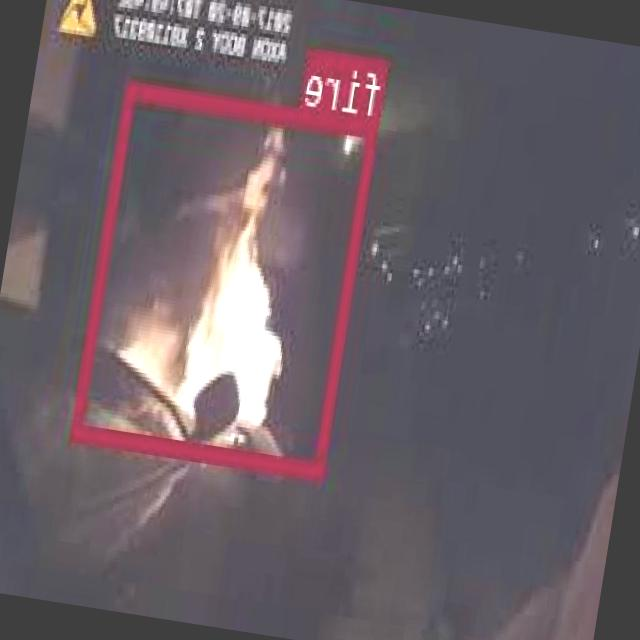fire: (74, 79, 380, 478)
